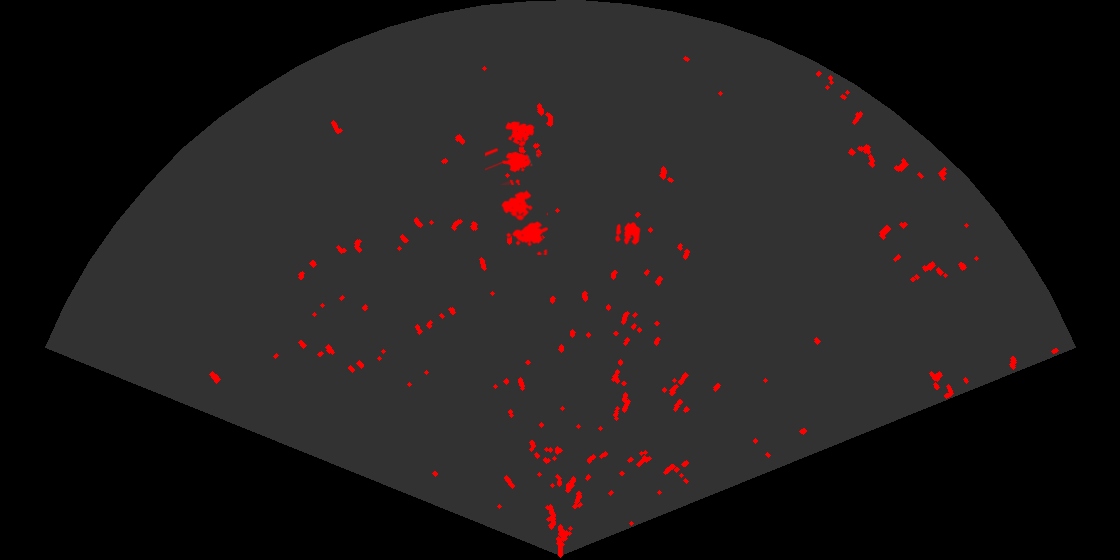ball: (614, 221, 642, 247)
cage: (485, 120, 541, 185), (499, 188, 548, 255)
